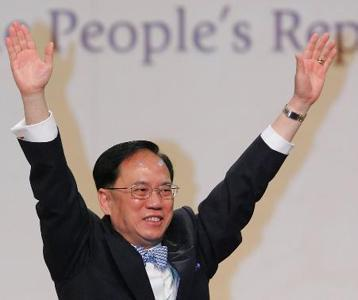person: (6, 20, 338, 300)
